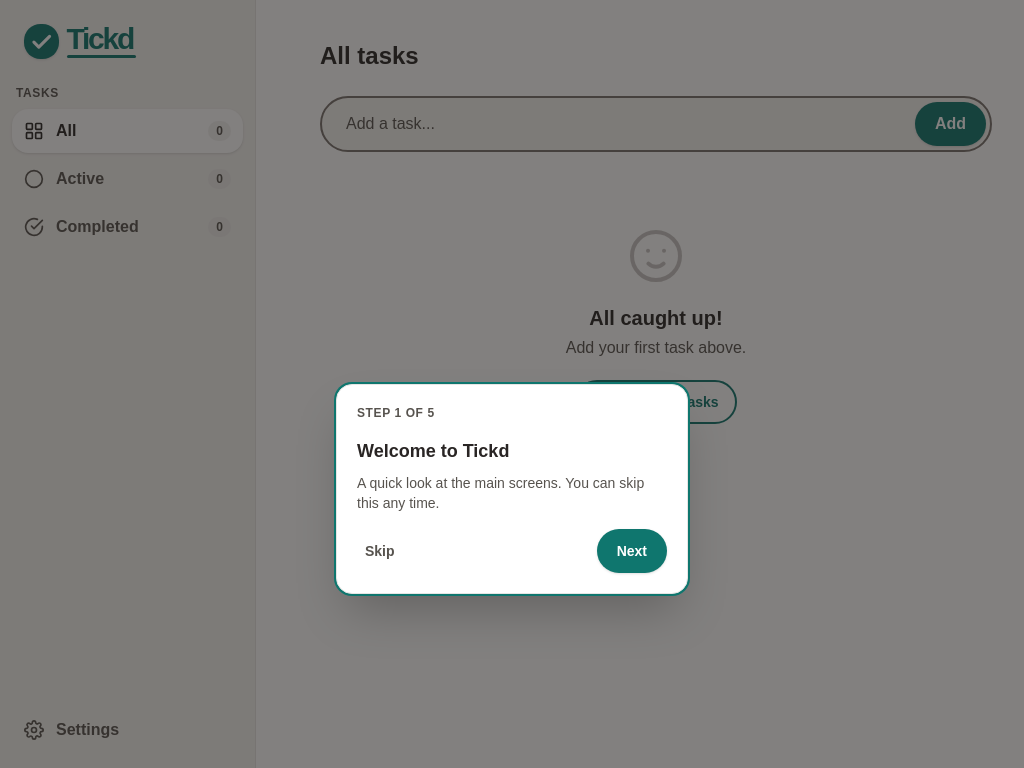
Test: progression › walks through five steps on an empty list and finishes with Done
The width and height of the screenshot is (1024, 768).
Expected: the dialog is shown, [336, 384, 688, 594]
Expected: the text "Step 1 of 5" is shown, [357, 406, 435, 420]
Click the button "Next" at point(632, 551), box [597, 529, 667, 573]
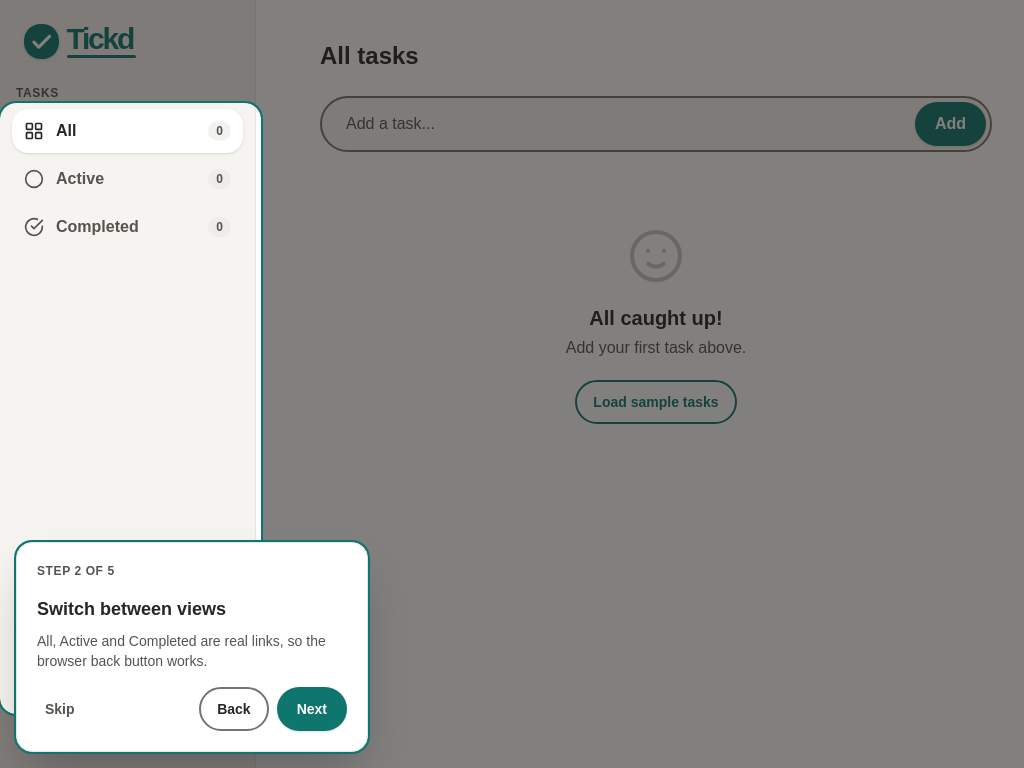
Expected: the text "Step 2 of 5" is shown, [37, 564, 115, 578]
Expected: the heading "Switch between views" is shown, [37, 599, 226, 619]
Click the button "Next" at point(312, 709), box [277, 687, 347, 731]
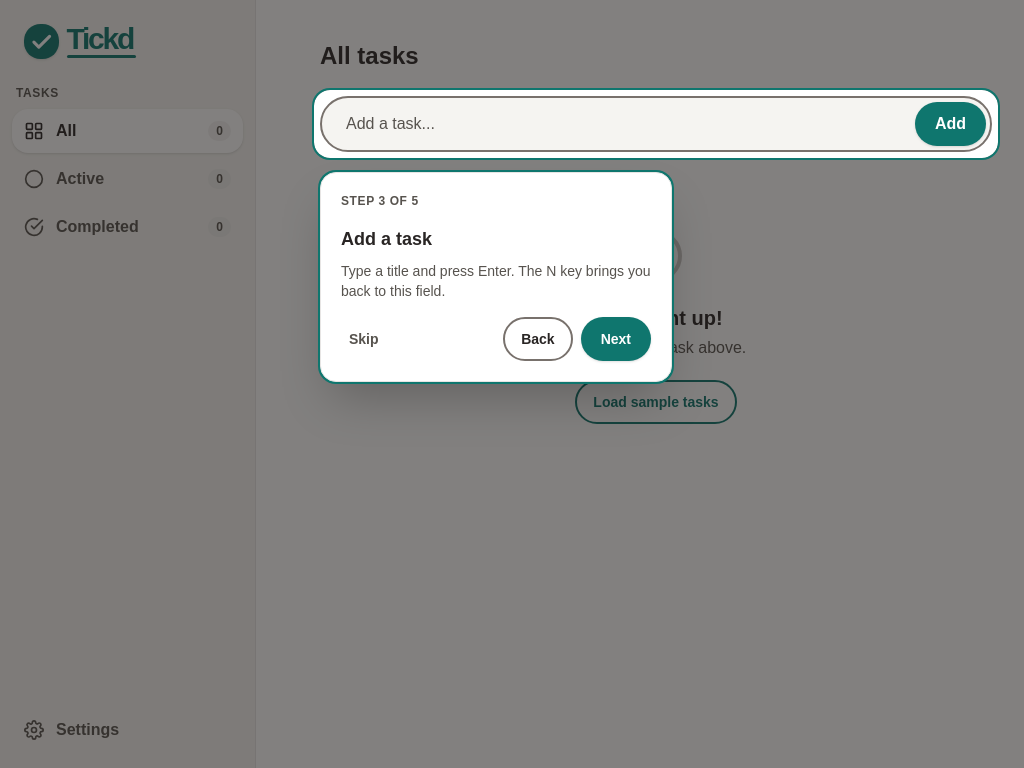
Expected: the heading "Add a task" is shown, [341, 229, 432, 249]
Click the button "Next" at point(616, 339), box [581, 317, 651, 361]
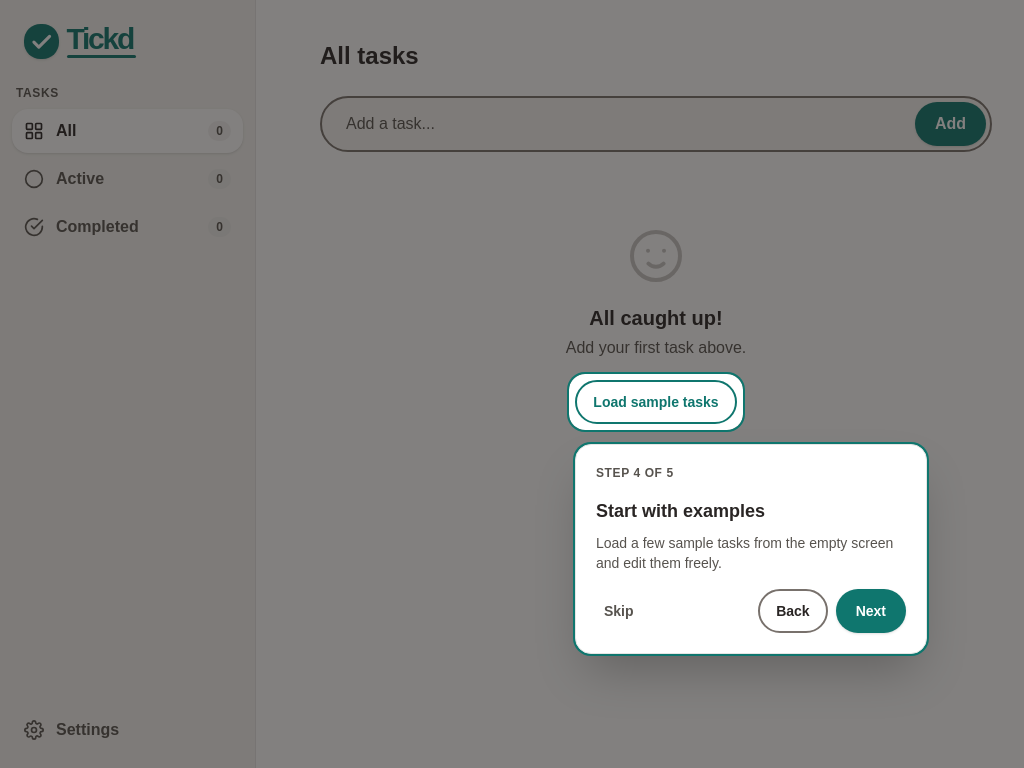
Expected: the heading "Start with examples" is shown, [596, 501, 766, 521]
Click the button "Next" at point(871, 611), box [836, 589, 906, 633]
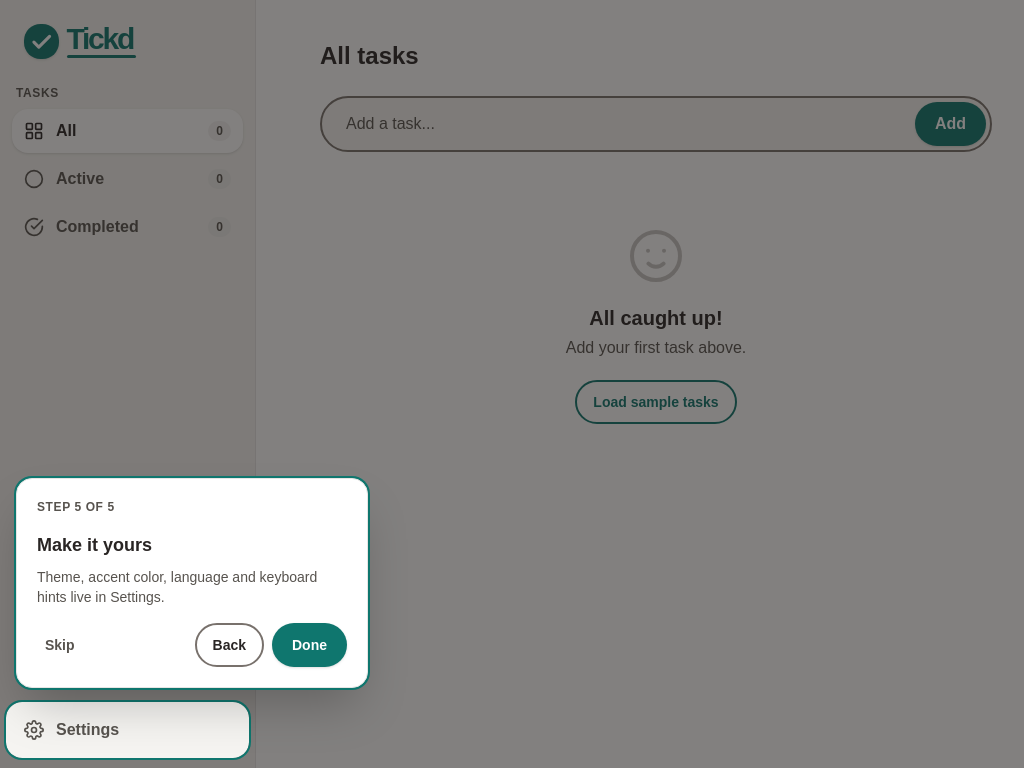
Expected: the text "Step 5 of 5" is shown, [37, 500, 115, 514]
Expected: the heading "Make it yours" is shown, [37, 535, 152, 555]
Expected: the button "Next" is gone
Click the button "Done" at point(310, 645), box [272, 623, 347, 667]
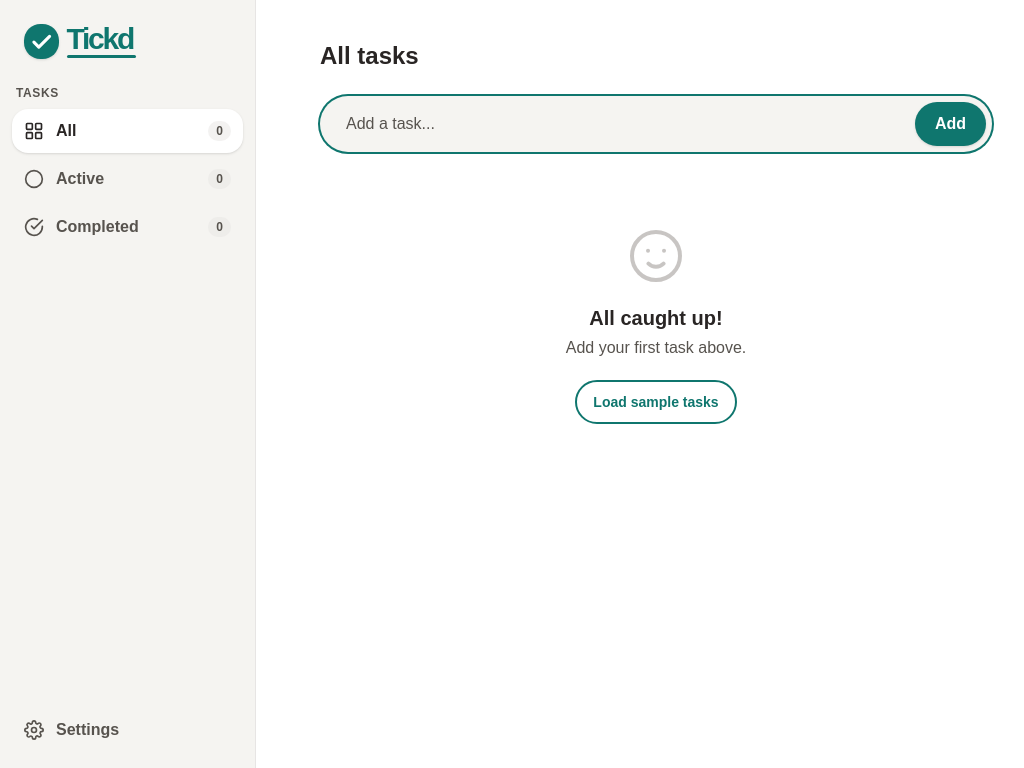
Expected: the dialog is gone
